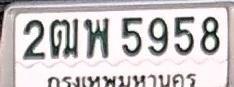2: (22, 19, 44, 59)
5: (121, 16, 142, 57), (174, 16, 194, 56)
8: (200, 16, 220, 55)
9: (147, 16, 168, 56)
A18: (49, 18, 78, 58)
A30: (83, 17, 109, 58)
BKK: (44, 71, 198, 87)
